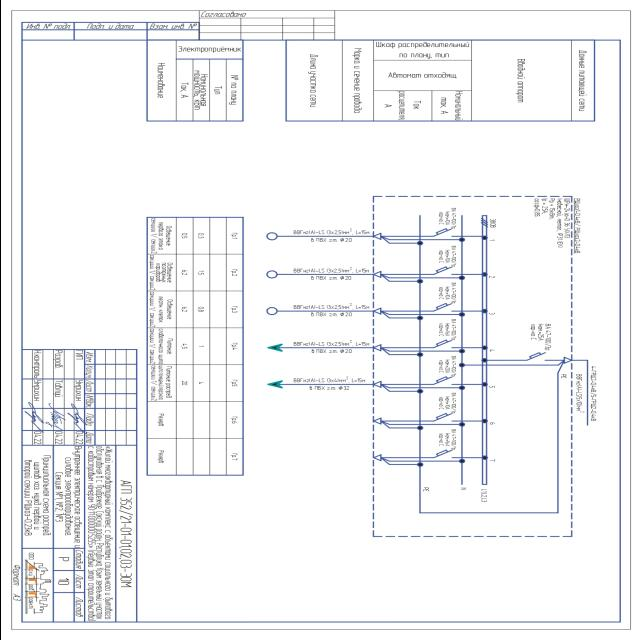-: (555, 198, 570, 248), (528, 324, 550, 352), (436, 207, 456, 230), (437, 391, 457, 414), (436, 355, 456, 378), (436, 245, 456, 268), (436, 318, 456, 341), (436, 281, 456, 304), (437, 428, 457, 450)
QF: (430, 376, 454, 386), (524, 352, 548, 362), (431, 228, 455, 238), (431, 303, 455, 313), (430, 266, 454, 276), (430, 412, 454, 422), (430, 449, 454, 459), (430, 339, 454, 349)
